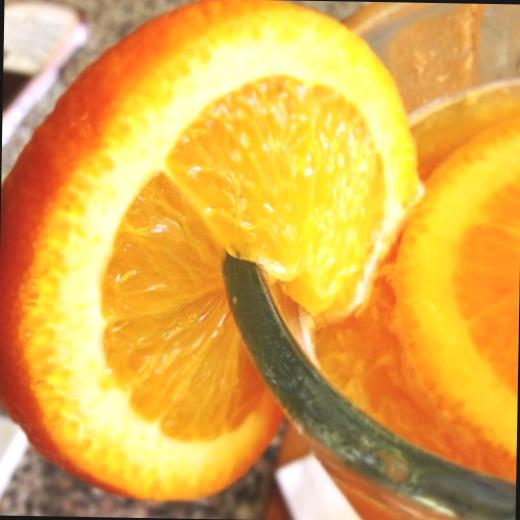Grape: (0, 0, 427, 505), (390, 112, 520, 459)
